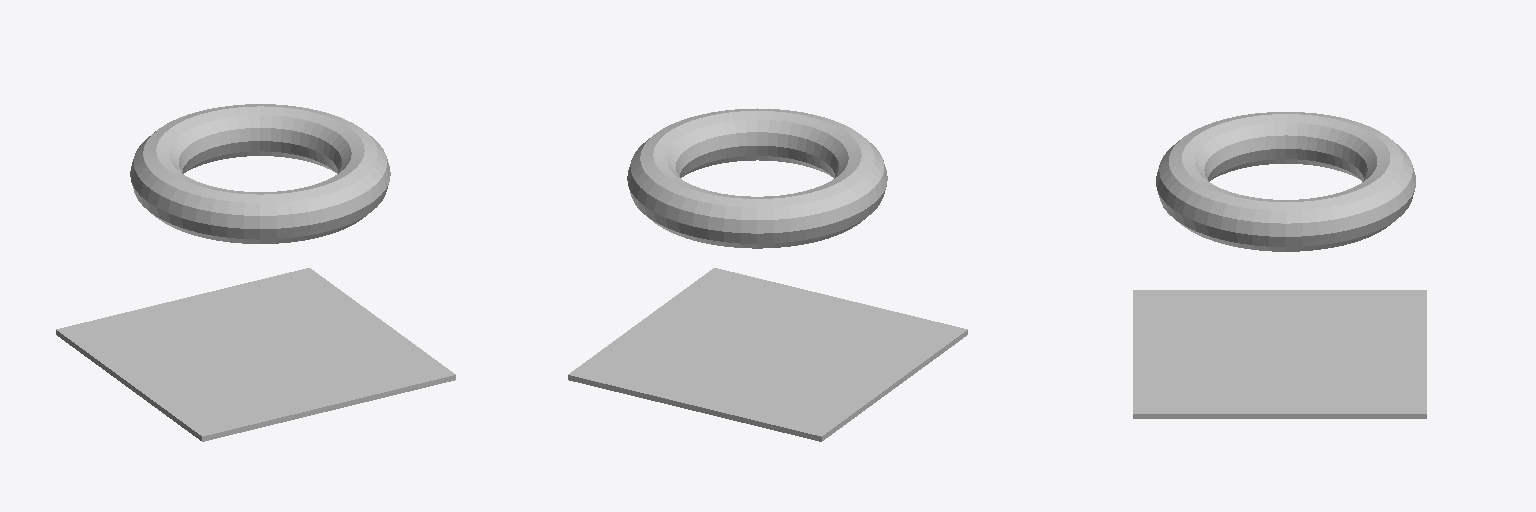
File: black_hole_former.obj
3 renders of one model, left to right at view 1: azimuth 30°, elevation 25°; view 2: azimuth 150°, elevation 25°; view 3: azimuth 270°, elevation 25°, orthographic.
Visible parts, largest first — view 1: Cube_Cube.001, Torus; view 2: Cube_Cube.001, Torus; view 3: Cube_Cube.001, Torus.
Boxes of the visible parts, box(x1,y1,x2,y2) form: Cube_Cube.001: box(56, 268, 455, 441); Torus: box(130, 104, 390, 243); Cube_Cube.001: box(568, 268, 967, 441); Torus: box(627, 108, 887, 248); Cube_Cube.001: box(1133, 290, 1426, 418); Torus: box(1156, 112, 1415, 251).
Size of the model in its own units: 1.01 by 0.7756 by 1.01.